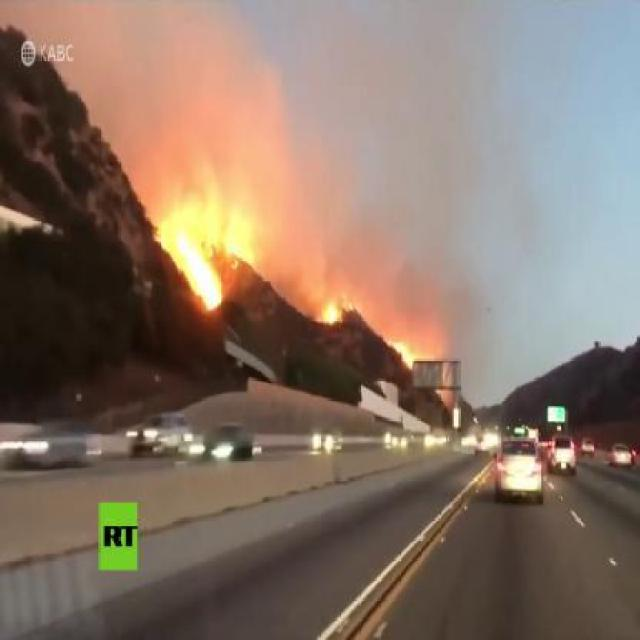Fire: (156, 215, 228, 312), (180, 202, 250, 255), (399, 332, 420, 377), (318, 299, 342, 327)
